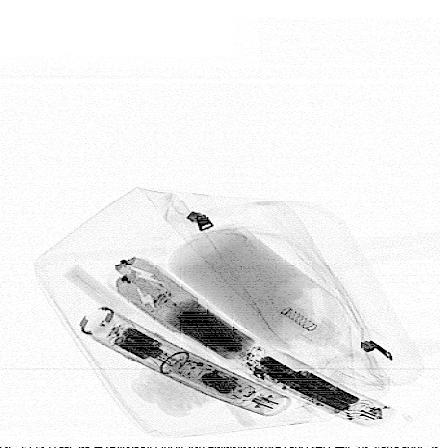Baton: (108, 253, 398, 428), (82, 305, 292, 419)
